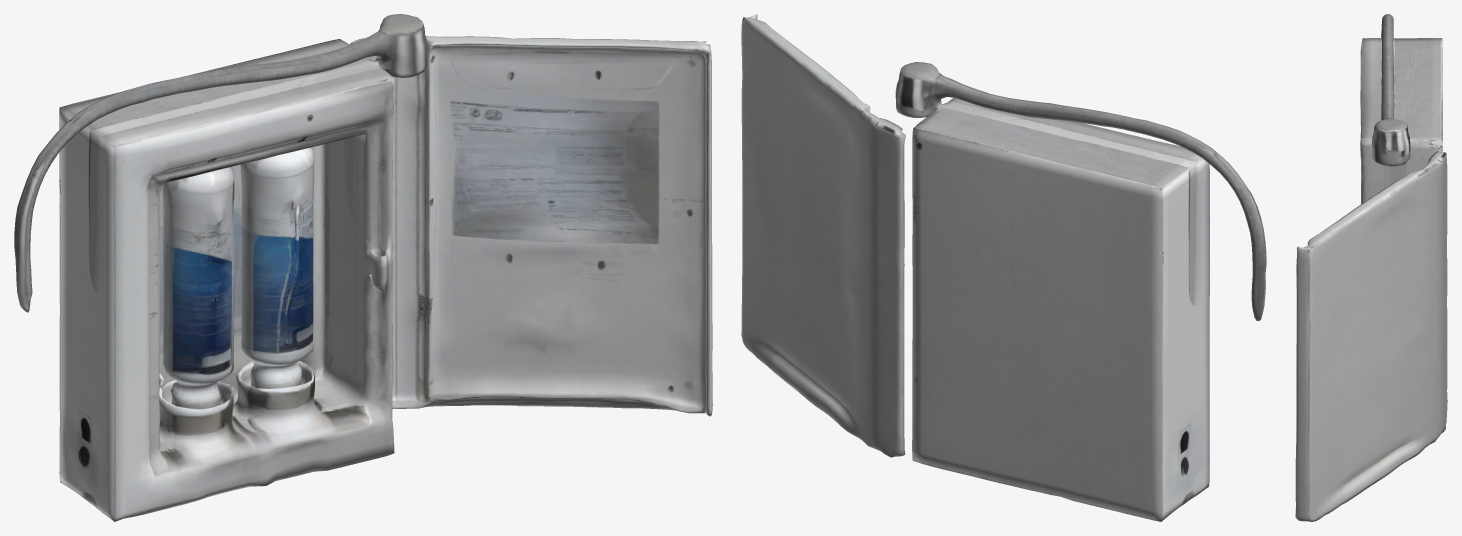
File: HLH001@2.glb
3 renders of one model, left to right at view 1: azimuth 30°, elevation 25°; view 2: azimuth 150°, elevation 25°; view 3: azimuth 270°, elevation 25°, orthographic. The views are drawn at different scales.
Size of the model in its own units: 2 by 1.22 by 0.5465.
1 material, 1 textured.
